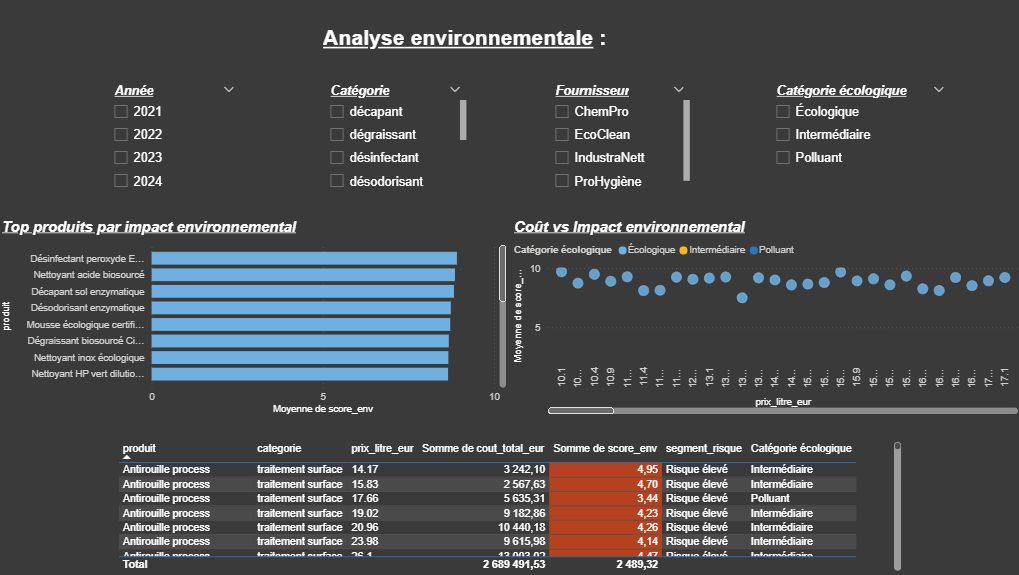

Layout of this report page (visuals, bound fields, positions):
{"tool":"powerbi","page":{"name":"Analyse Environnementale","canvas":[1280,720],"ordinal":1},"visuals":[{"type":"clusteredBarChart","title":"Top produits par impact environnemental","fields":{"Category":["produits_clean.produit"],"Y":["Avg(produits_clean.score_env)"]},"box":[0,273.8,640,250],"z":0},{"type":"scatterChart","title":"Coût vs Impact environnemental","fields":{"X":["produits_clean.prix_litre_eur"],"Y":["Avg(produits_clean.score_env)"],"Series":["produits_clean.Catégorie écologique"],"Size":["CountNonNull(produits_clean.quantite_kg)"]},"box":[640,273.8,640,250],"z":1000},{"type":"tableEx","fields":{"Values":["DIM_Produit.produit","produits_clean.categorie","produits_clean.prix_litre_eur","Sum(produits_clean.cout_total_eur)","Sum(produits_clean.score_env)","produits_clean.segment_risque","produits_clean.Catégorie écologique"]},"box":[145,548.8,988.8,171.2],"z":2000},{"type":"textbox","box":[401.2,28.8,376.2,58.8],"z":2001},{"type":"slicer","fields":{"Values":["produits_clean.mois_label.Variation.Hiérarchie de dates.Année"]},"box":[132.5,101.2,175,151.2],"z":2002},{"type":"slicer","fields":{"Values":["produits_clean.categorie"]},"box":[402.5,101.2,187.5,151.2],"z":2003},{"type":"slicer","fields":{"Values":["produits_clean.fournisseur"]},"box":[683.8,101.2,186.2,151.2],"z":2004},{"type":"slicer","fields":{"Values":["produits_clean.Catégorie écologique"]},"box":[960,101.2,235,151.2],"z":2005}]}

Visuals, with their boxes in screenshot pixels (x1, y1, x2, y2), scaled from the page's 1280x720 canvas onto the 1019x575 screenshot:
"Top produits par impact environnemental" clusteredBarChart: box(0, 219, 510, 418)
"Coût vs Impact environnemental" scatterChart: box(510, 219, 1018, 418)
tableEx - DIM_Produit.produit x produits_clean.categorie: box(115, 438, 903, 574)
textbox: box(319, 23, 619, 70)
slicer - produits_clean.mois_label.Variation.Hiérarchie de dates.Année: box(105, 81, 245, 202)
slicer - produits_clean.categorie: box(320, 81, 470, 202)
slicer - produits_clean.fournisseur: box(544, 81, 693, 202)
slicer - produits_clean.Catégorie écologique: box(764, 81, 951, 202)
